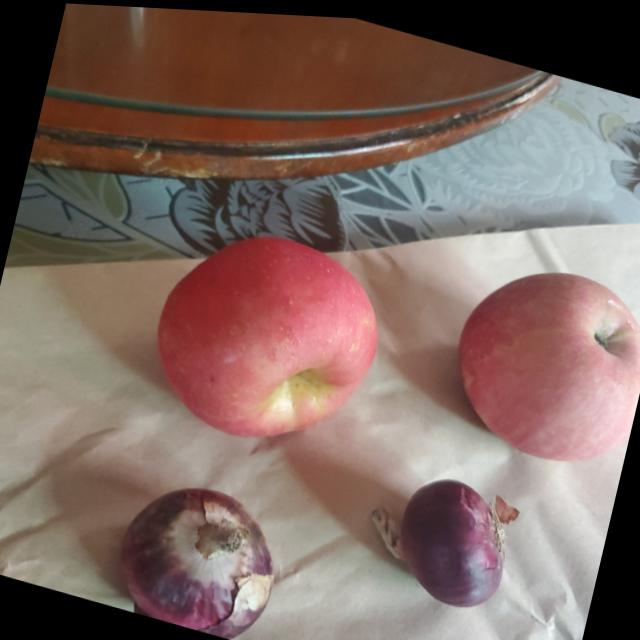apple: (136, 198, 400, 464), (439, 239, 640, 474)
onion: (108, 465, 280, 640), (357, 455, 520, 616)
